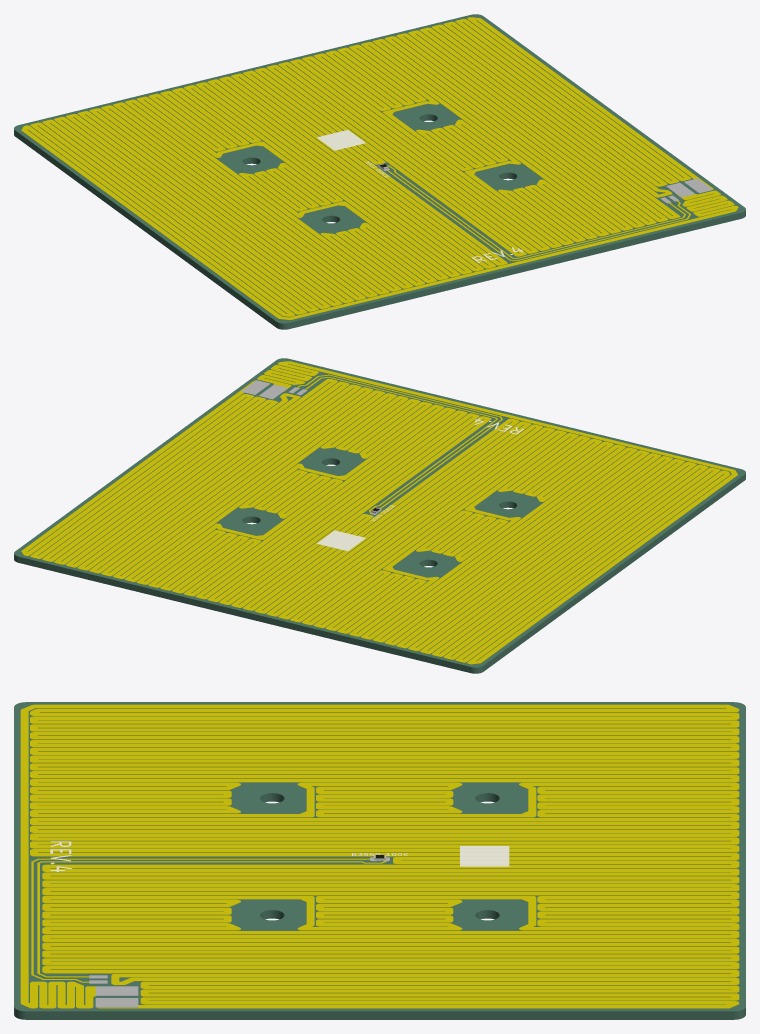
The model's file is custom_heater.glb.
3 views of the same model, one above another, from view 1: azimuth 30°, elevation 25°; view 2: azimuth 150°, elevation 25°; view 3: azimuth 270°, elevation 25° (orthographic). The views are drawn at different scales.
Parts seen in each view (by area): view 1: =>[0:1:1:3], =>[0:1:1:6], =>[0:1:1:5], =>[0:1:1:4]; view 2: =>[0:1:1:3], =>[0:1:1:6], =>[0:1:1:5], =>[0:1:1:4]; view 3: =>[0:1:1:3], =>[0:1:1:6], =>[0:1:1:5], =>[0:1:1:4].
Boxes of the visible parts, left/top/right/bottom form: =>[0:1:1:3]: left=21, top=17, right=738, bottom=320; =>[0:1:1:6]: left=14, top=14, right=745, bottom=329; =>[0:1:1:5]: left=317, top=130, right=523, bottom=262; =>[0:1:1:4]: left=378, top=165, right=712, bottom=203; =>[0:1:1:3]: left=21, top=361, right=737, bottom=664; =>[0:1:1:6]: left=14, top=358, right=745, bottom=673; =>[0:1:1:5]: left=317, top=418, right=523, bottom=551; =>[0:1:1:4]: left=241, top=380, right=381, bottom=514; =>[0:1:1:3]: left=20, top=704, right=739, bottom=1008; =>[0:1:1:6]: left=14, top=702, right=745, bottom=1019; =>[0:1:1:5]: left=50, top=841, right=509, bottom=871; =>[0:1:1:4]: left=89, top=857, right=389, bottom=1007.
Size of the model in its own units: 0.119 by 0.00204 by 0.119.
